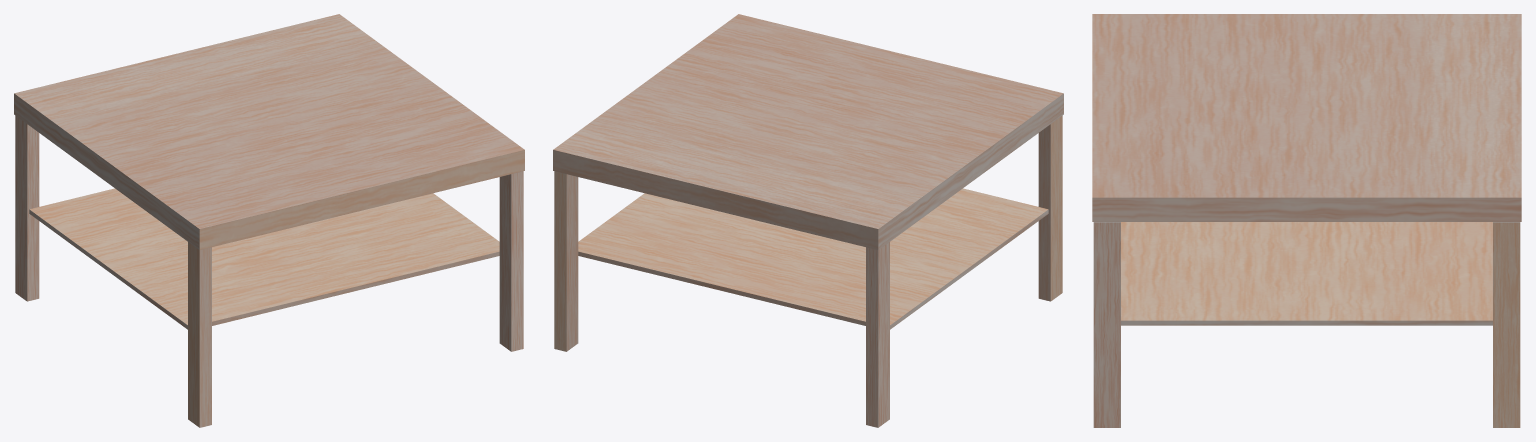
3 renders of one model, left to right at view 1: azimuth 30°, elevation 25°; view 2: azimuth 150°, elevation 25°; view 3: azimuth 270°, elevation 25°, orthographic. The views are drawn at different scales.
Visible parts, largest first — view 1: pCube4; view 2: pCube4; view 3: pCube4.
Boxes of the visible parts, x1,y1,x2,y2 form: pCube4: [14, 14, 524, 427]; pCube4: [553, 14, 1063, 427]; pCube4: [1092, 14, 1521, 427].
Size of the model in its own units: 0.3874 by 0.2269 by 0.3826.
1 material, 1 textured.
